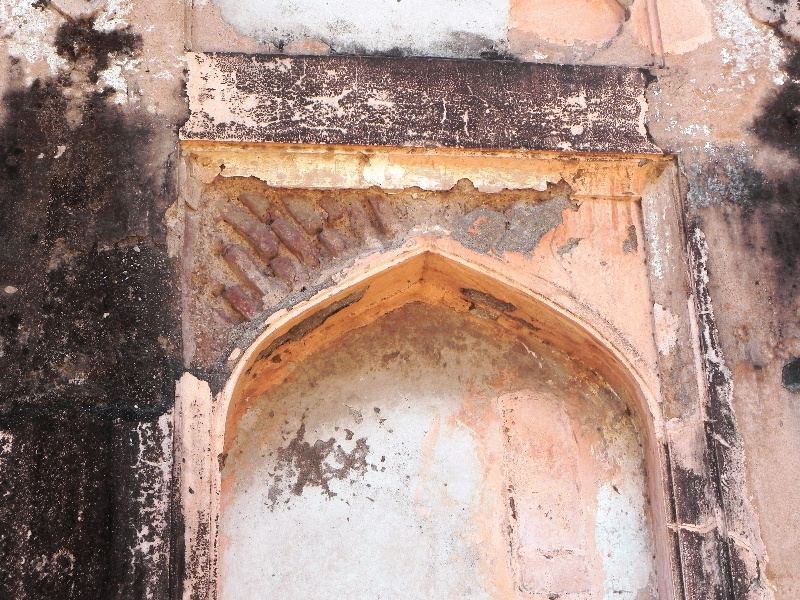Exposed Bricks: (195, 174, 400, 335)
Spalling: (412, 181, 585, 253)
